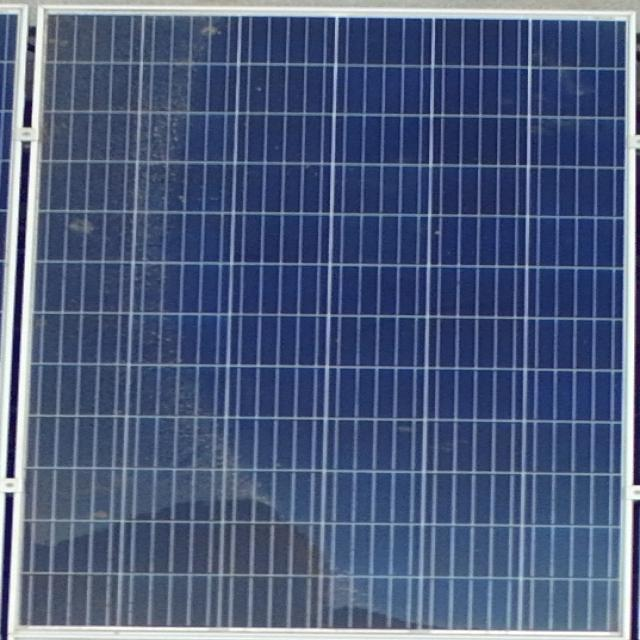Surface Contaminant: (15, 10, 446, 625)
